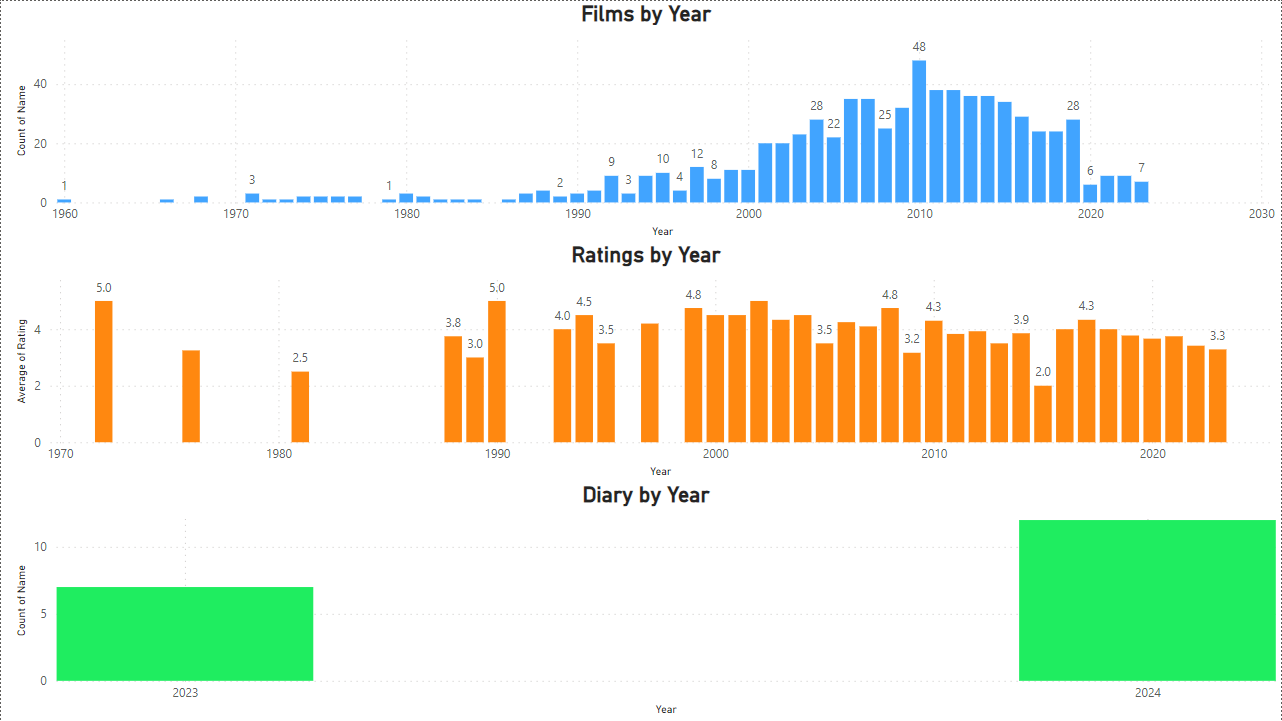

What the dashboard file says about the page in this screenshot:
{"tool":"powerbi","page":{"name":"Films, Ratings & Diary by Year","canvas":[1280,720],"ordinal":1},"visuals":[{"type":"clusteredColumnChart","title":"Films by Year","fields":{"Category":["complete_data.Year1"],"Y":["CountNonNull(complete_data.Name)1"]},"box":[10,0,1270,241.4],"z":0},{"type":"clusteredColumnChart","title":"Ratings by Year","fields":{"Category":["complete_data.Year1"],"Y":["Avg(complete_data.Rating)1"]},"box":[10,241.4,1270,240],"z":1000},{"type":"clusteredColumnChart","title":"Diary by Year","fields":{"Category":["Diary.Year"],"Y":["CountNonNull(Diary.Name)"]},"box":[10,481.4,1270,238.6],"z":2000}]}

Visuals, with their boxes in screenshot pixels (x1, y1, x2, y2), scaled from the page's 1280x720 canvas onto the 1282x721 screenshot:
"Films by Year" clusteredColumnChart: [left=10, top=0, right=1281, bottom=242]
"Ratings by Year" clusteredColumnChart: [left=10, top=242, right=1281, bottom=482]
"Diary by Year" clusteredColumnChart: [left=10, top=482, right=1281, bottom=720]
